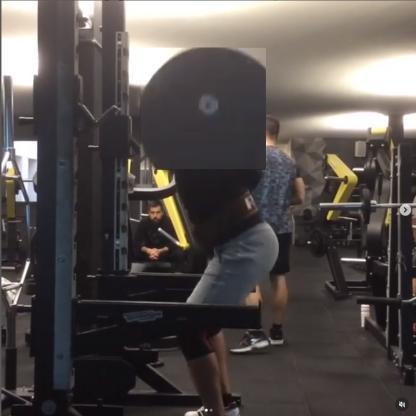barbell: (142, 49, 268, 171)
